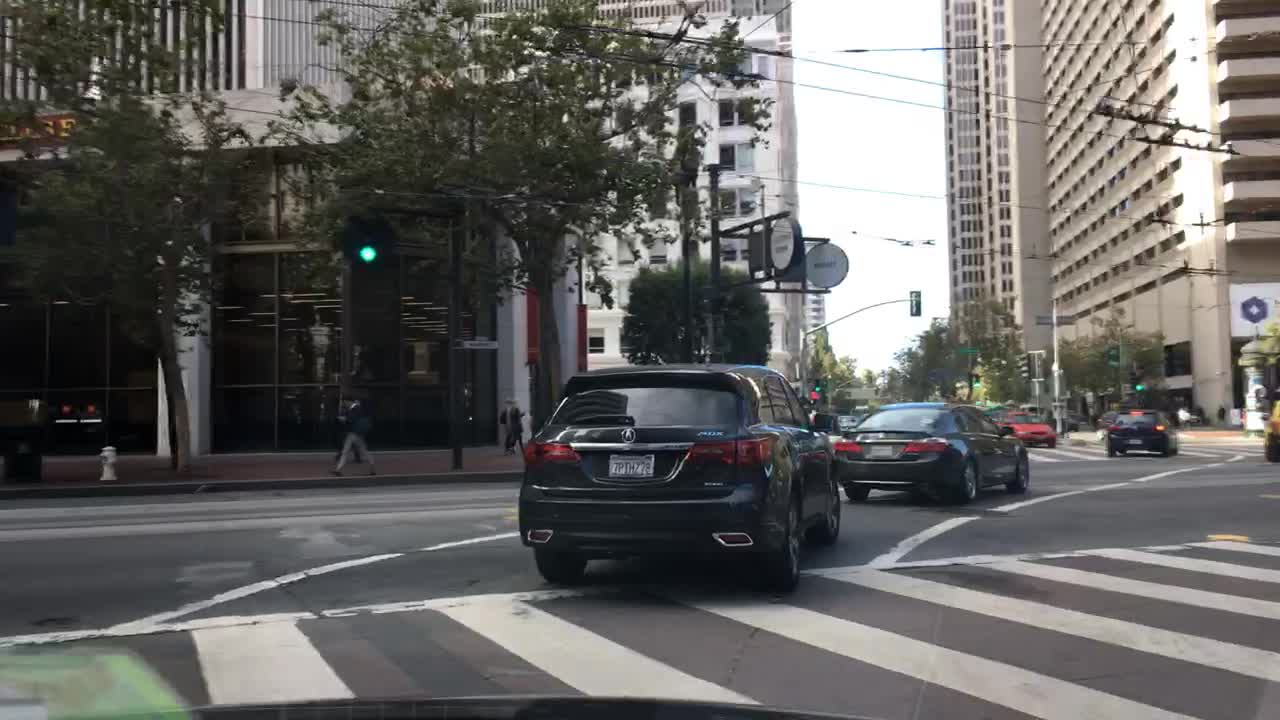car: (516, 359, 842, 597), (833, 401, 1034, 502), (1099, 406, 1178, 460), (993, 406, 1056, 447), (1263, 386, 1277, 462), (834, 411, 868, 433), (1174, 410, 1200, 426), (1098, 413, 1116, 427), (1065, 409, 1075, 431)
person: (325, 395, 383, 473), (502, 397, 527, 452), (1215, 405, 1226, 426)
traffic light: (354, 221, 377, 264), (909, 290, 923, 317), (1017, 352, 1029, 377), (813, 374, 824, 397), (1131, 372, 1144, 391), (973, 376, 980, 390)
traffic sign: (1054, 314, 1080, 326), (958, 344, 985, 355), (1033, 312, 1052, 326)
